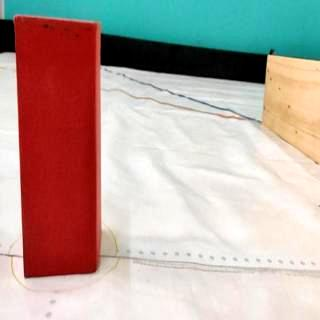redbox: (12, 15, 99, 278)
